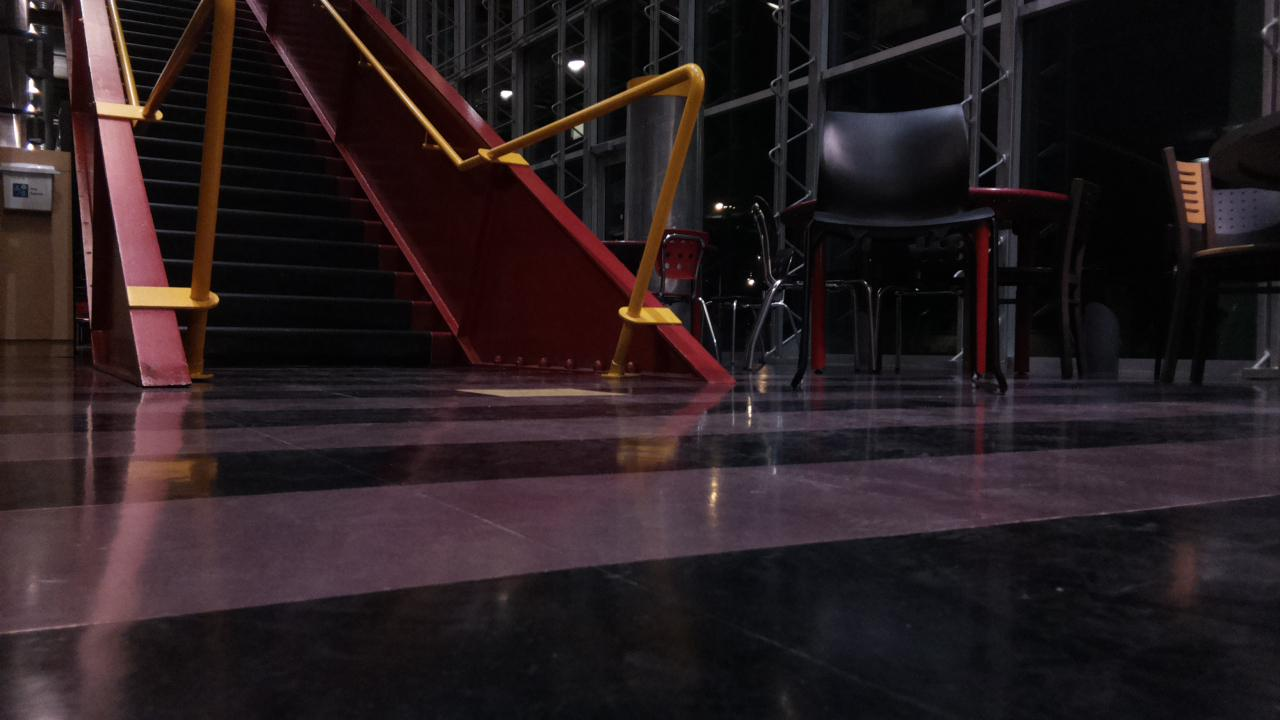sign: (11, 180, 46, 198)
stair: (105, 0, 453, 370)
